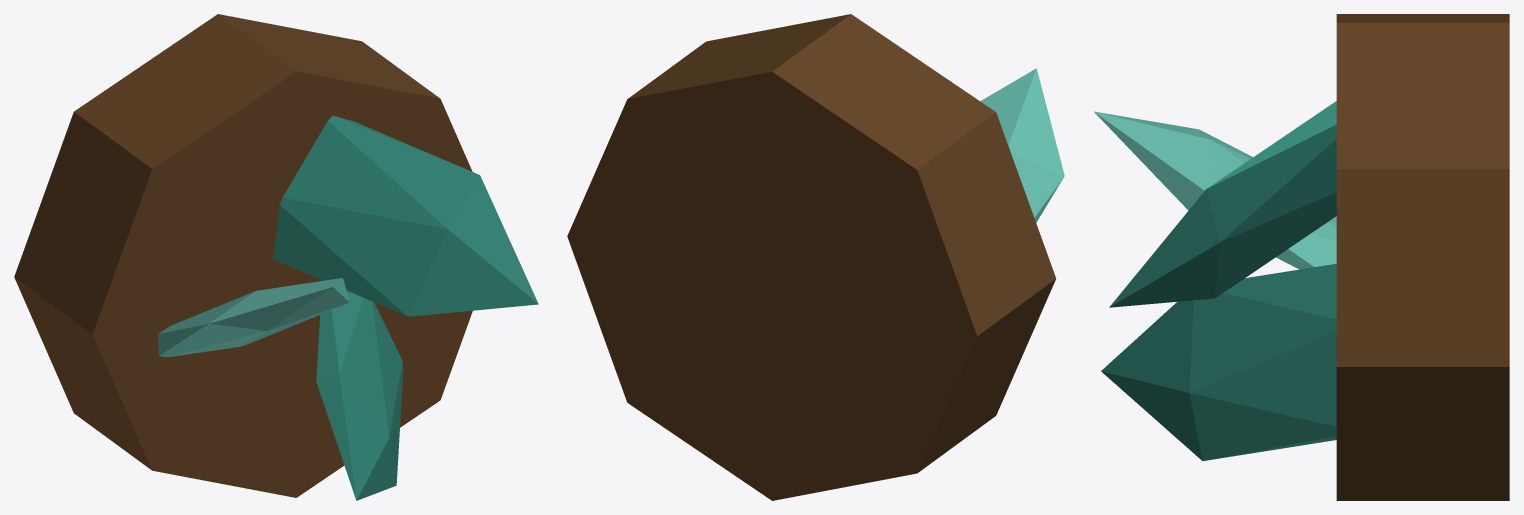
File: 1_seedling.obj
3 views of the same model, side by side, from view 1: azimuth 30°, elevation 25°; view 2: azimuth 150°, elevation 25°; view 3: azimuth 270°, elevation 25° (orthographic). The views are drawn at different scales.
Visible parts, largest first — view 1: marrentill_1_seedling; view 2: marrentill_1_seedling; view 3: marrentill_1_seedling.
Part boxes in pixels (bbox=[...]): marrentill_1_seedling: bbox=[14, 14, 538, 500]; marrentill_1_seedling: bbox=[567, 14, 1064, 500]; marrentill_1_seedling: bbox=[1094, 14, 1509, 500].
Size of the model in its own units: 0.12 by 0.12 by 0.0963.
